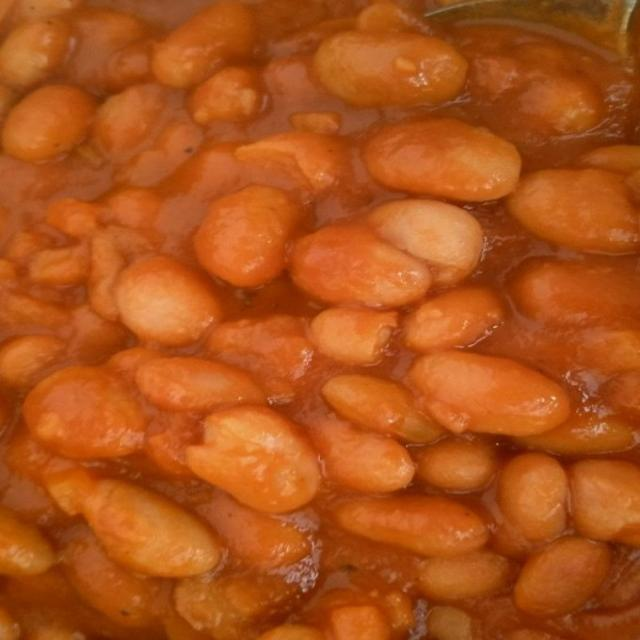beans: (47, 471, 222, 577), (186, 406, 319, 513), (410, 351, 569, 435), (364, 119, 520, 201), (314, 31, 467, 107), (290, 226, 431, 306), (23, 366, 145, 458), (509, 168, 639, 253), (193, 186, 302, 286), (63, 530, 168, 628), (368, 200, 483, 286), (115, 255, 221, 345), (335, 496, 488, 556), (152, 0, 256, 88), (208, 315, 313, 396), (511, 259, 639, 325), (201, 492, 311, 568), (321, 374, 443, 442), (174, 573, 297, 639), (311, 420, 415, 493), (514, 537, 610, 616), (69, 7, 151, 94), (2, 85, 95, 161), (136, 358, 265, 412), (235, 132, 351, 192), (404, 287, 505, 352), (497, 453, 568, 541), (91, 84, 171, 159), (570, 460, 639, 546), (515, 73, 604, 136), (516, 414, 635, 456), (310, 308, 397, 365), (0, 19, 71, 88), (418, 551, 512, 600), (189, 67, 264, 125), (416, 438, 498, 491), (144, 412, 201, 479), (0, 508, 54, 576), (0, 336, 65, 388), (88, 233, 126, 321), (576, 329, 639, 374), (0, 291, 71, 328), (104, 39, 153, 92), (101, 187, 161, 230), (29, 245, 88, 286), (326, 605, 391, 639), (46, 198, 99, 239), (356, 0, 416, 33), (107, 347, 160, 384), (603, 370, 639, 420), (577, 145, 639, 173), (428, 607, 476, 639), (15, 0, 83, 19), (288, 112, 341, 134), (257, 625, 324, 639), (0, 607, 21, 639), (0, 84, 16, 122), (506, 629, 563, 639)
